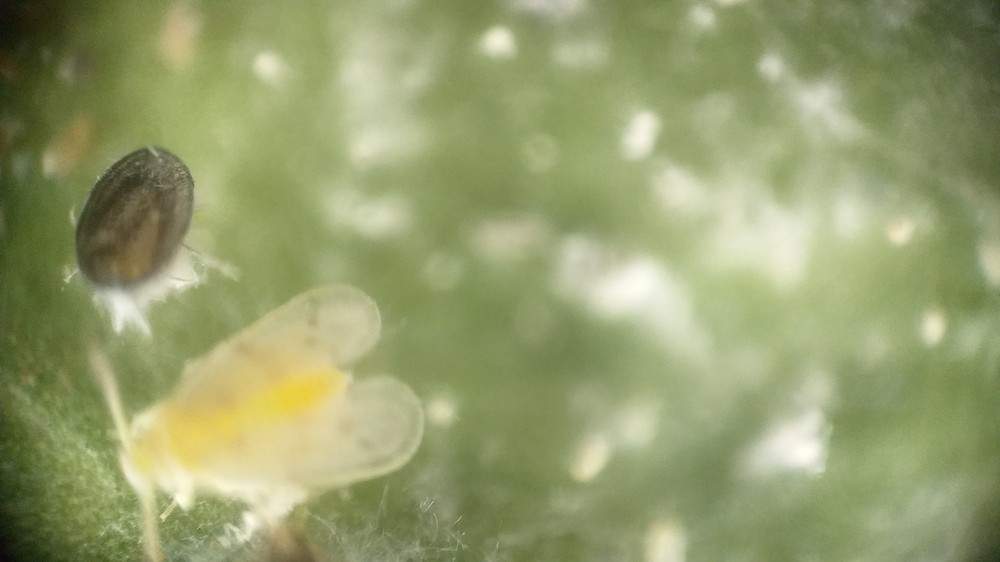Mosca Blanca: (85, 275, 447, 560)
